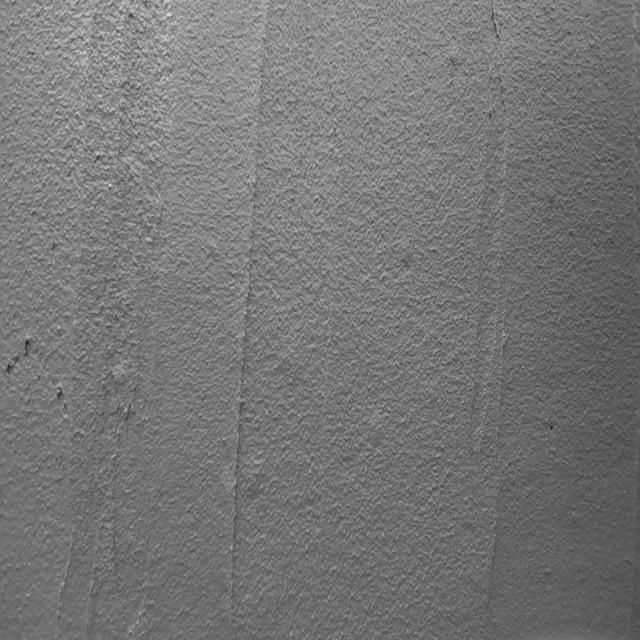trowels marks: (204, 17, 271, 640), (484, 42, 513, 576)
